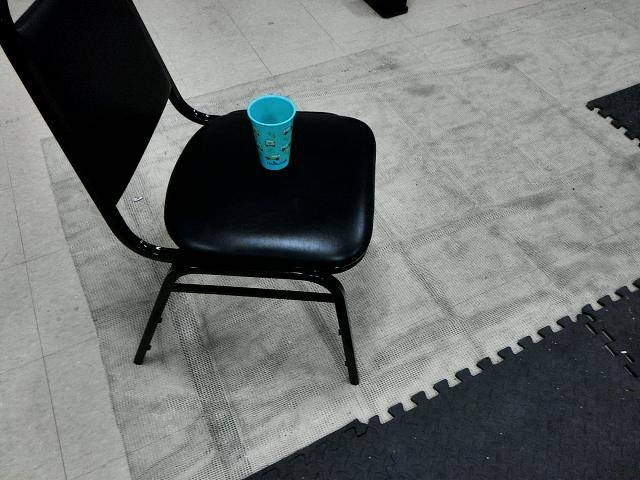coffee_cup: (247, 94, 296, 170)
